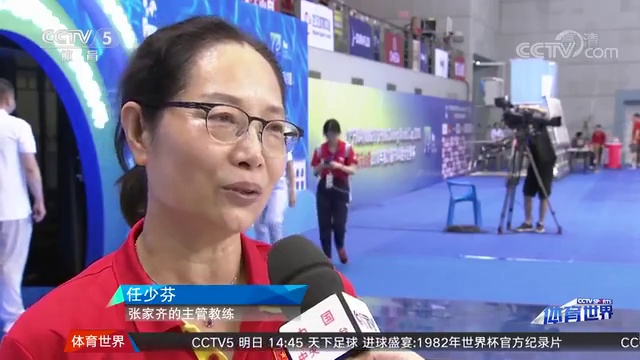face: (147, 41, 289, 228)
